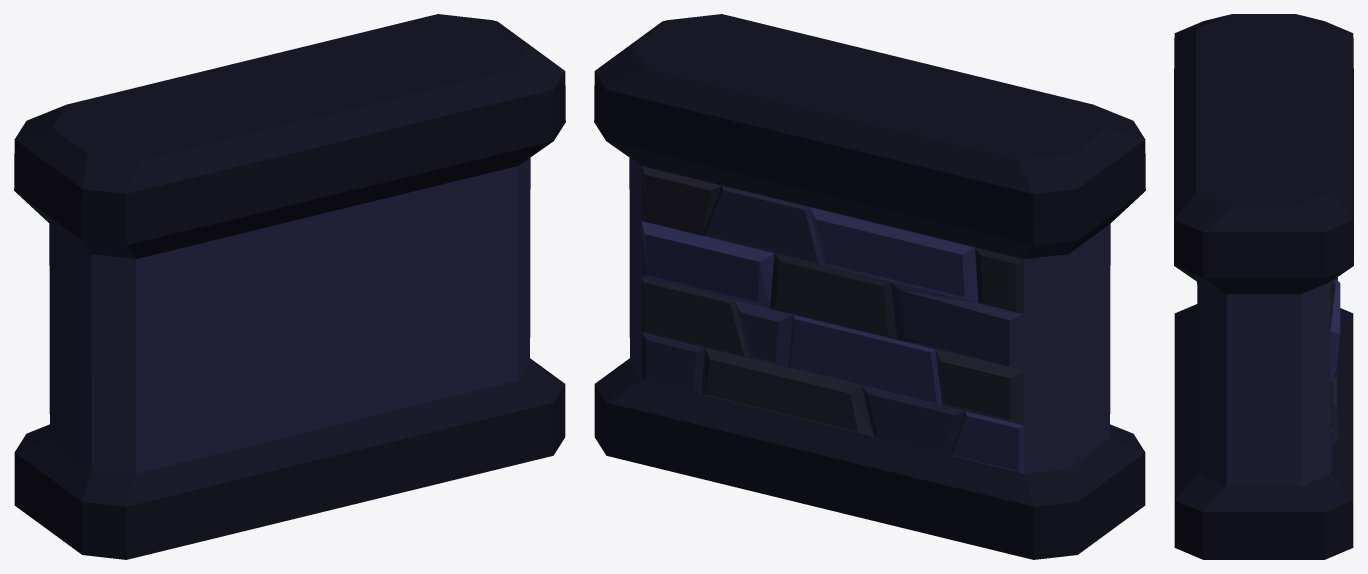
File: Wall3.fbx
3 renders of one model, left to right at view 1: azimuth 30°, elevation 25°; view 2: azimuth 150°, elevation 25°; view 3: azimuth 270°, elevation 25°, orthographic. The views are drawn at different scales.
Parts seen in each view (by area): view 1: Object005; view 2: Object005; view 3: Object005.
Part boxes in pixels (x1,y1,x2,y2): Object005: [14, 14, 565, 559]; Object005: [594, 14, 1145, 559]; Object005: [1174, 14, 1353, 559].
Bounding box in the file's own units: 48.03 × 17.27 × 36.44.
